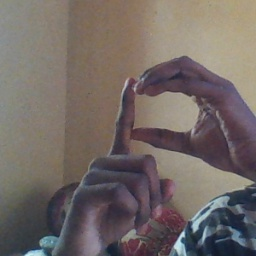P: (82, 53, 222, 227)
